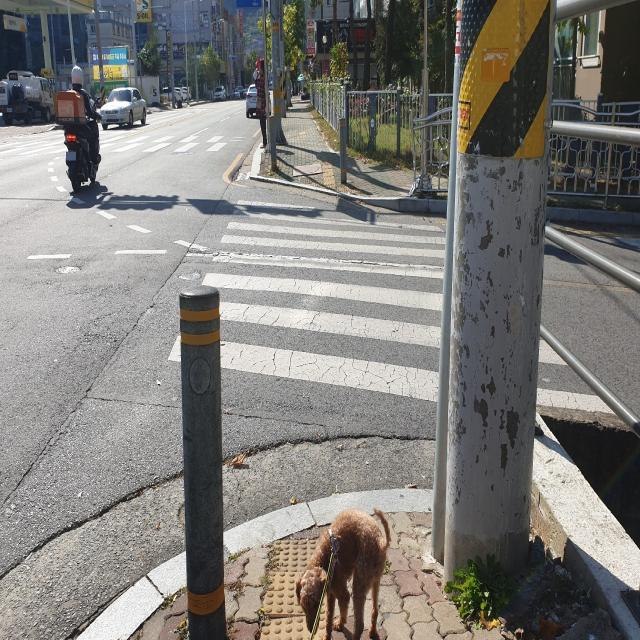횡단보도: (164, 194, 622, 421), (99, 128, 245, 162)
